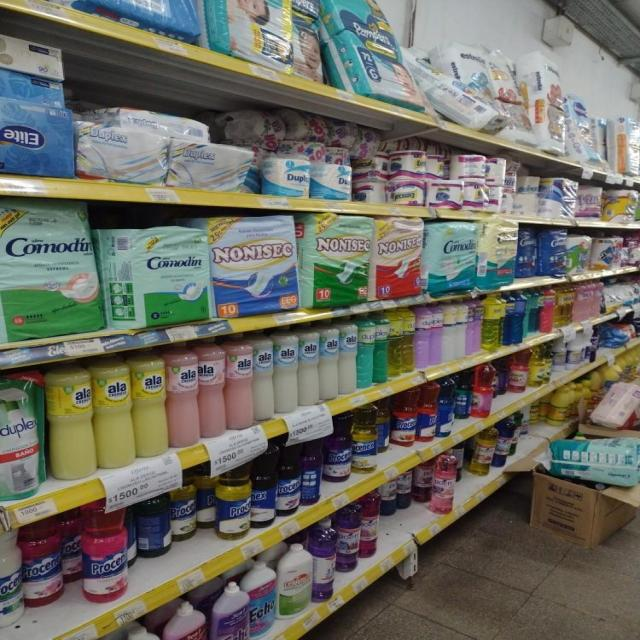ala_crem_amarillo: (46, 361, 94, 480), (94, 354, 133, 469), (133, 348, 167, 458)
ala_crem_blanco: (275, 326, 298, 414), (253, 330, 274, 420), (299, 324, 319, 407), (320, 320, 338, 402)
ala_crem_rosado: (167, 343, 199, 448), (199, 339, 226, 439), (226, 334, 253, 430)
magistral_con_amarillo: (605, 189, 633, 222)
